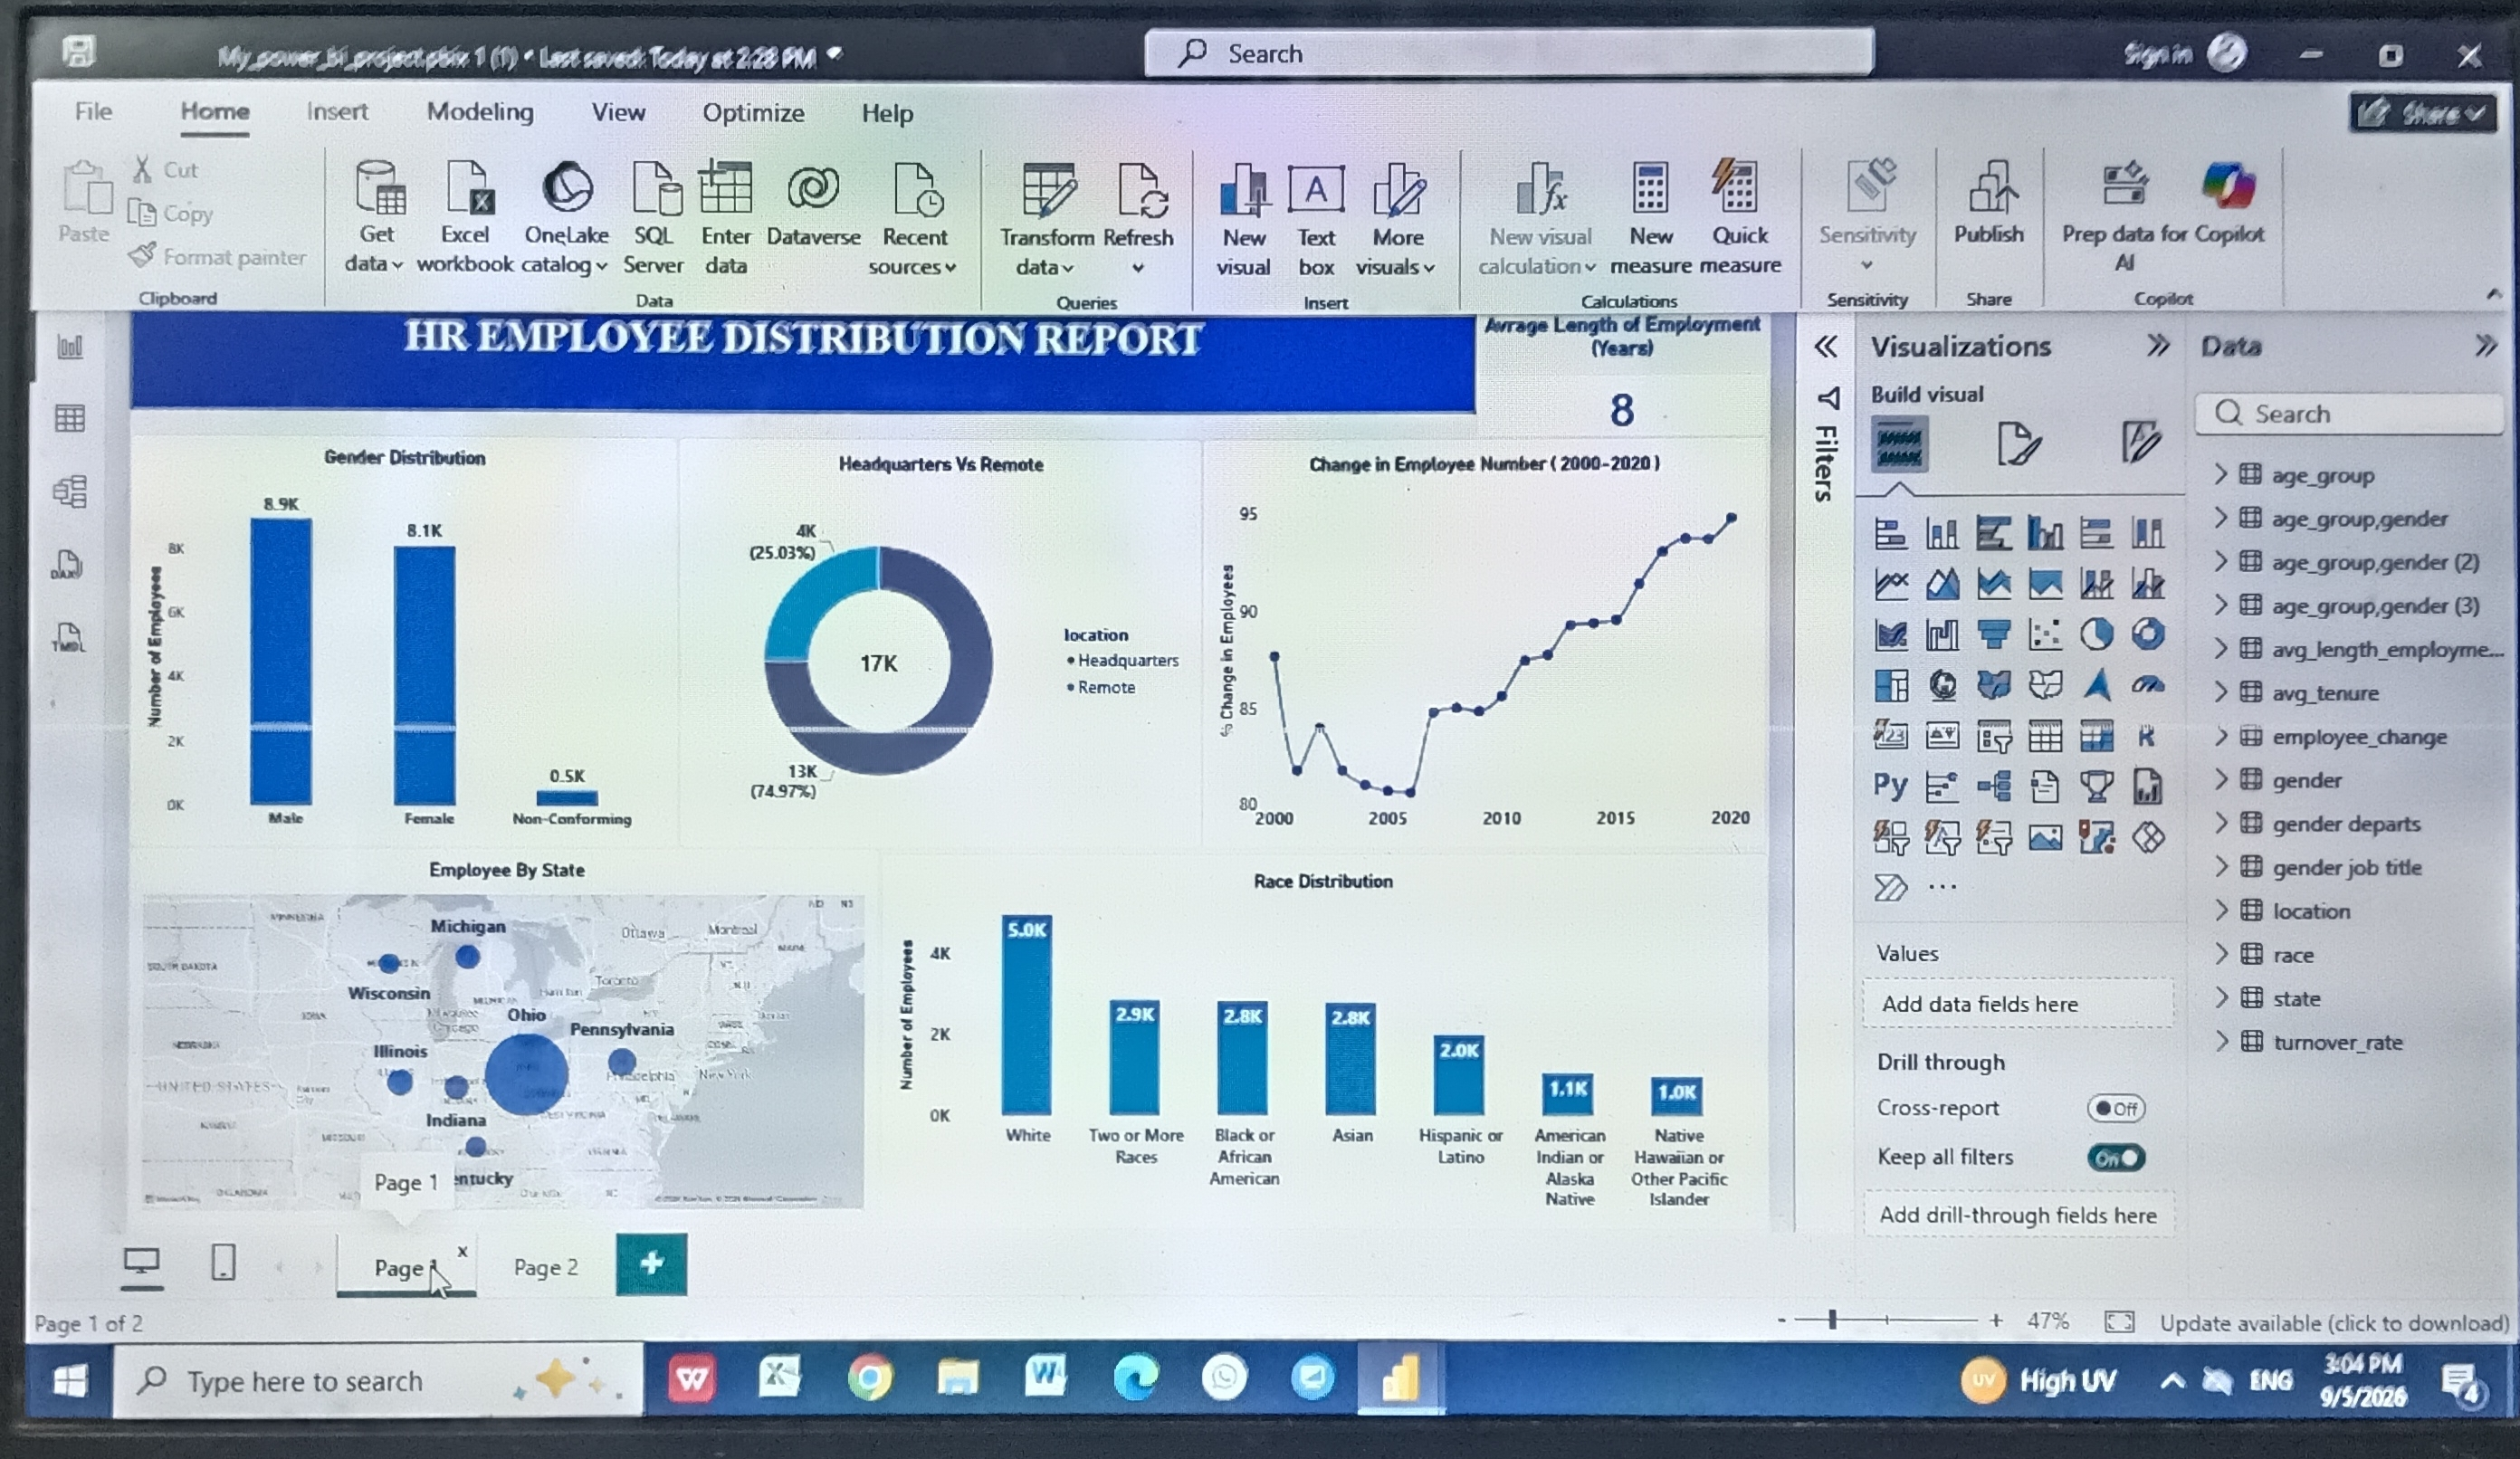

What the dashboard file says about the page in this screenshot:
{"tool":"powerbi","page":{"name":"Page 1","canvas":[1920,1080],"ordinal":0},"visuals":[{"type":"textbox","box":[0,0,1576.6,117],"z":0},{"type":"cardVisual","title":"Avrage Length of Employment (Years)","fields":{"Data":["Sum(avg_length_employment.avg_length_employement)"]},"box":[1576.6,0,342.6,144.7],"z":1000},{"type":"columnChart","title":"Gender Distribution","fields":{"Category":["gender.gender"],"Y":["Sum(gender.count)"]},"box":[0,144.7,638.3,483],"z":2000},{"type":"donutChart","title":"Headquarters Vs Remote","fields":{"Category":["location.location"],"Y":["Sum(location.count)"]},"box":[638.3,144.7,617,483],"z":2001},{"type":"lineChart","title":"Change in Employee Number ( 2000-2020 )","fields":{"Category":["employee_change.year"],"Y":["Sum(employee_change.net_change_percent)"]},"box":[1255.3,144.7,663.8,483],"z":2002},{"type":"map","title":"Employee By State","fields":{"Category":["state.location_state"],"Size":["Sum(state.count)"]},"box":[0,627.7,874.5,442.6],"z":2003},{"type":"clusteredColumnChart","title":"Race Distribution","fields":{"Category":["race.race"],"Y":["Sum(race.count)"]},"box":[876,634,1044.7,442.6],"z":2004}]}

Visuals, with their boxes on the page's 1920x1080 design canvas (x1, y1, x2, y2). These are canvas units, not pixel positions in the 2520x1459 screenshot, which may show the page scaled, cropped or inside an application window:
textbox: [left=0, top=0, right=1577, bottom=117]
"Avrage Length of Employment (Years)" cardVisual: [left=1577, top=0, right=1919, bottom=145]
"Gender Distribution" columnChart: [left=0, top=145, right=638, bottom=628]
"Headquarters Vs Remote" donutChart: [left=638, top=145, right=1255, bottom=628]
"Change in Employee Number ( 2000-2020 )" lineChart: [left=1255, top=145, right=1919, bottom=628]
"Employee By State" map: [left=0, top=628, right=874, bottom=1070]
"Race Distribution" clusteredColumnChart: [left=876, top=634, right=1921, bottom=1077]
